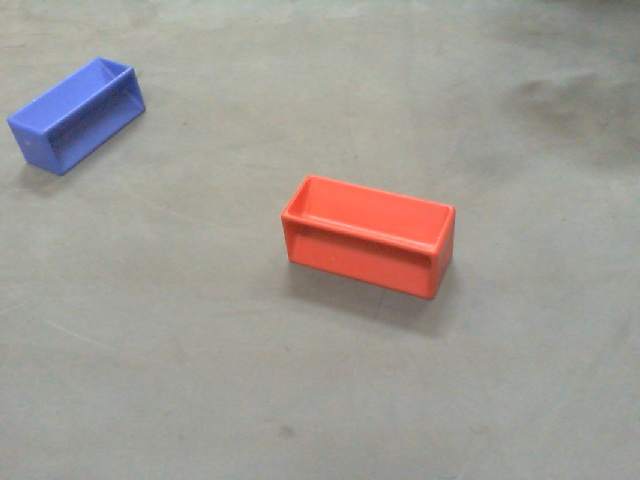BlueSample: (4, 54, 150, 179)
RedSample: (279, 170, 459, 307)
